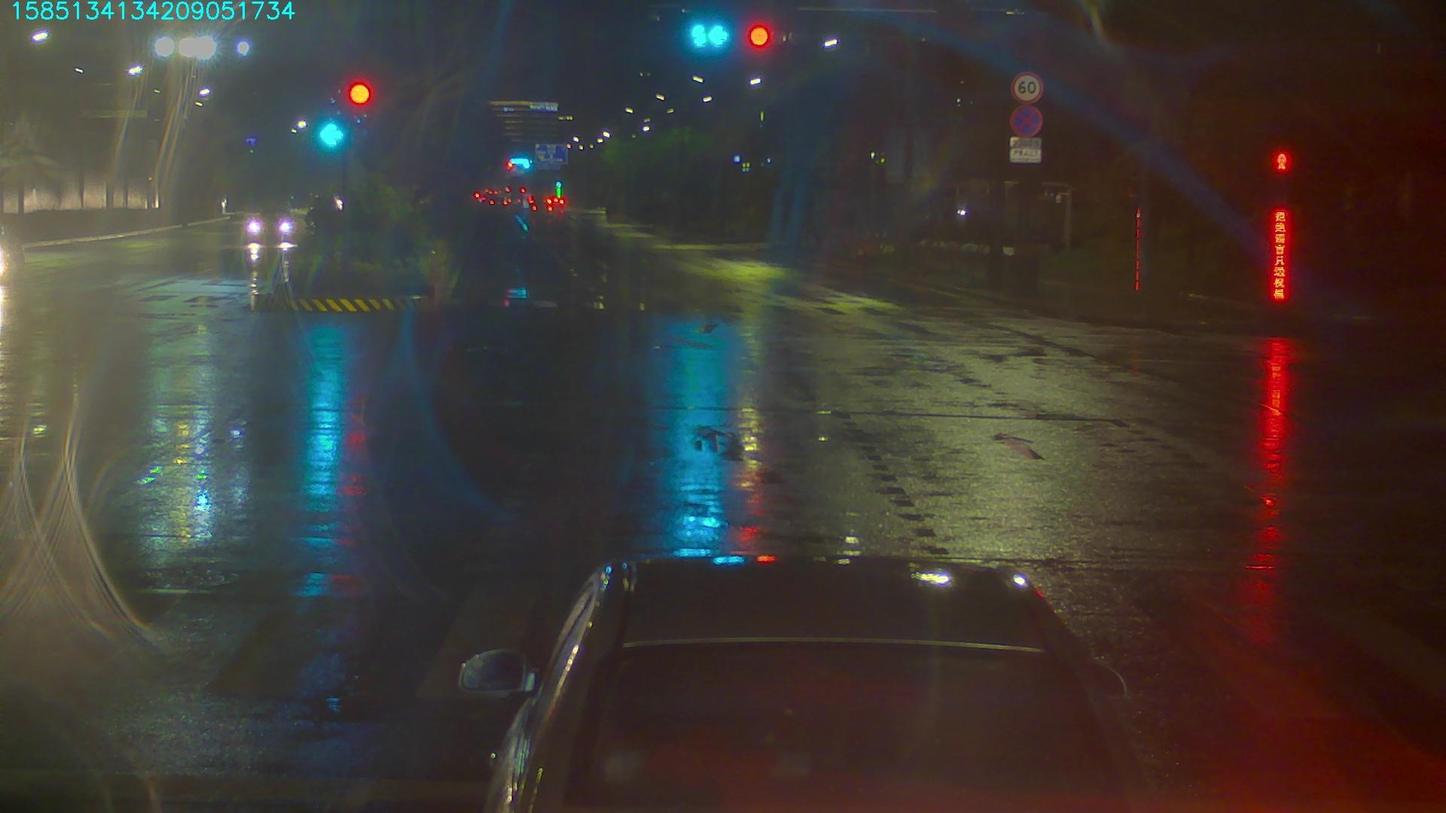green: (682, 20, 731, 52)
red: (746, 24, 770, 60)
